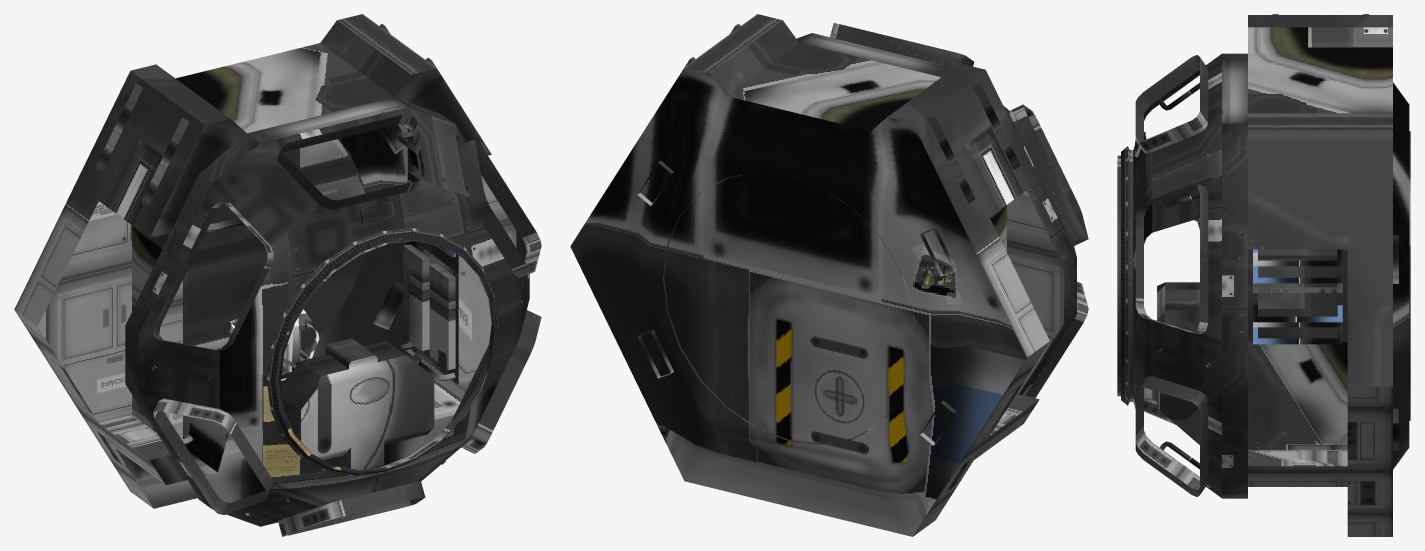
The model's file is cupola-edited.glb.
3 renders of one model, left to right at view 1: azimuth 30°, elevation 25°; view 2: azimuth 150°, elevation 25°; view 3: azimuth 270°, elevation 25°, orthographic. The views are drawn at different scales.
Parts seen in each view (by area): view 1: obj_internal, Seat002, obj_pipes; view 2: obj_internal; view 3: obj_internal, obj_pipes.
Boxes of the visible parts, x1,y1,x2,y2 form: obj_internal: [14, 14, 541, 536]; Seat002: [229, 309, 319, 384]; obj_pipes: [134, 127, 528, 515]; obj_internal: [570, 14, 1088, 536]; obj_internal: [1117, 14, 1410, 536]; obj_pipes: [1158, 82, 1341, 487].
Size of the model in its own units: 4 by 3.47 by 2.24.
3 materials, 3 textured.
